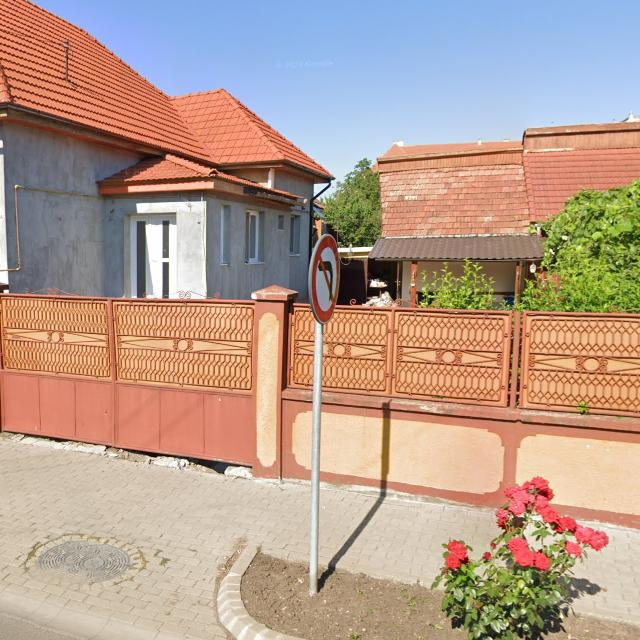forb_left: (310, 234, 340, 324)
